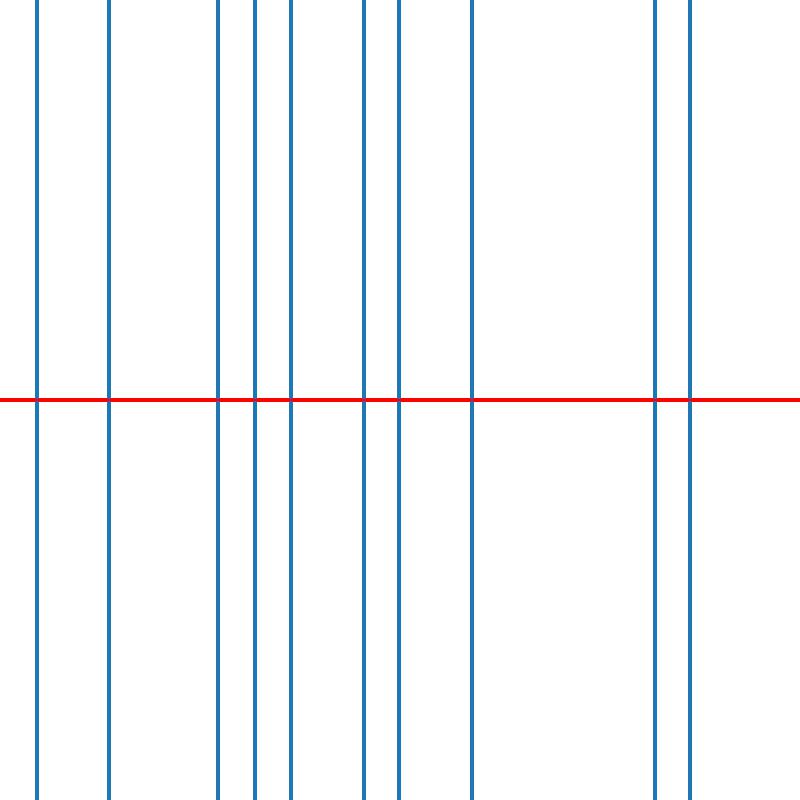root: (650, 396, 658, 404), (32, 396, 40, 404), (250, 396, 258, 404), (360, 396, 367, 404), (687, 396, 694, 404), (396, 396, 403, 404), (105, 396, 112, 404), (287, 396, 294, 404), (469, 396, 476, 404), (214, 396, 221, 404)
